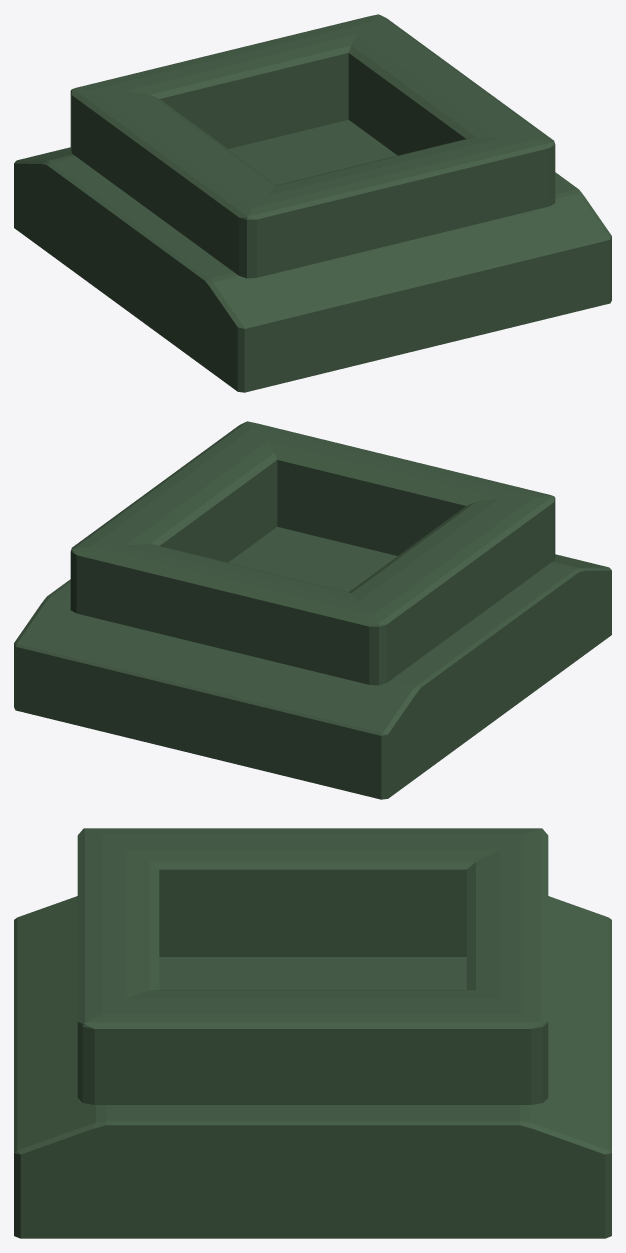
File: M6BO_Model_Prullenbak 1.fbx
The picture shows the model from 3 angles, top to bottom: view 1: azimuth 30°, elevation 25°; view 2: azimuth 150°, elevation 25°; view 3: azimuth 270°, elevation 25°; orthographic projection. The views are drawn at different scales.
Visible parts, largest first — view 1: Prulllenbak; view 2: Prulllenbak; view 3: Prulllenbak.
Part boxes in pixels (bbox=[...]): Prulllenbak: bbox=[14, 14, 611, 392]; Prulllenbak: bbox=[14, 421, 611, 799]; Prulllenbak: bbox=[14, 828, 611, 1238].
Size of the model in its own units: 166 by 63.79 by 176.
